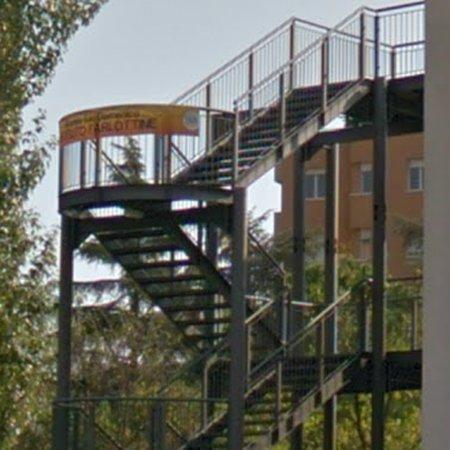stairs: (87, 212, 230, 343), (236, 82, 360, 185), (244, 353, 359, 450), (176, 132, 234, 185), (183, 432, 225, 450)
